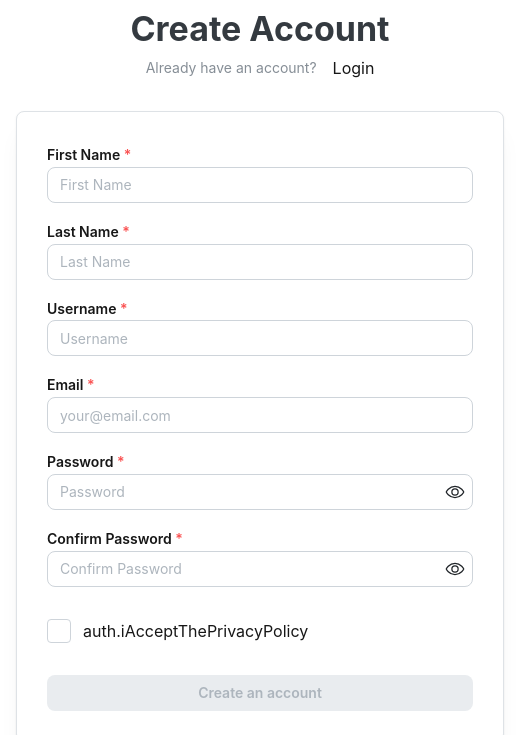
SignUpForm › Form Validation › enables submit button when all fields are valid
This screenshot has width=521, height=735.
Type "John" into the field with test id "sign-up-first-name-input" at [260, 185], box [47, 167, 473, 203]
Type "Doe" into the field with test id "sign-up-last-name-input" at [260, 262], box [47, 244, 473, 280]
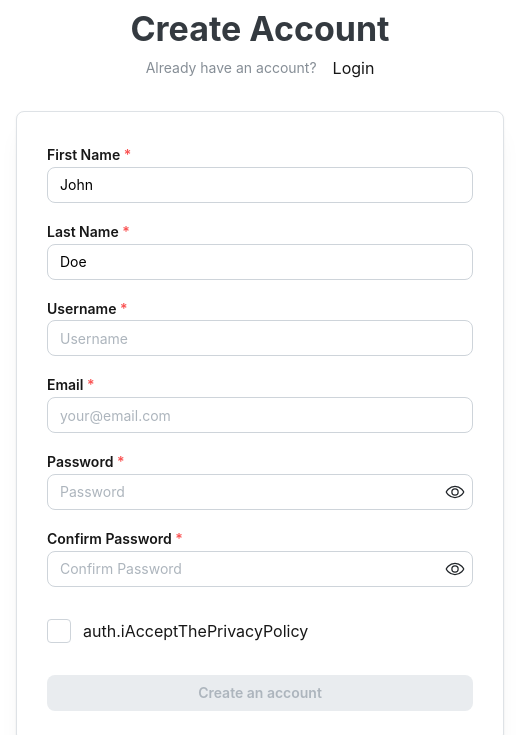
Type "johndoe" into the field with test id "sign-up-user-name-input" at [260, 338], box [47, 320, 473, 356]
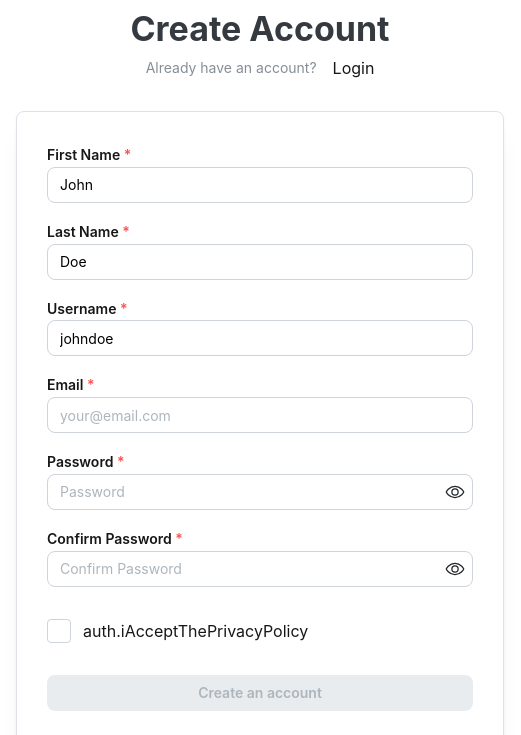
Type "john@example.com" into the field with test id "sign-up-email-input" at [260, 415], box [47, 397, 473, 433]
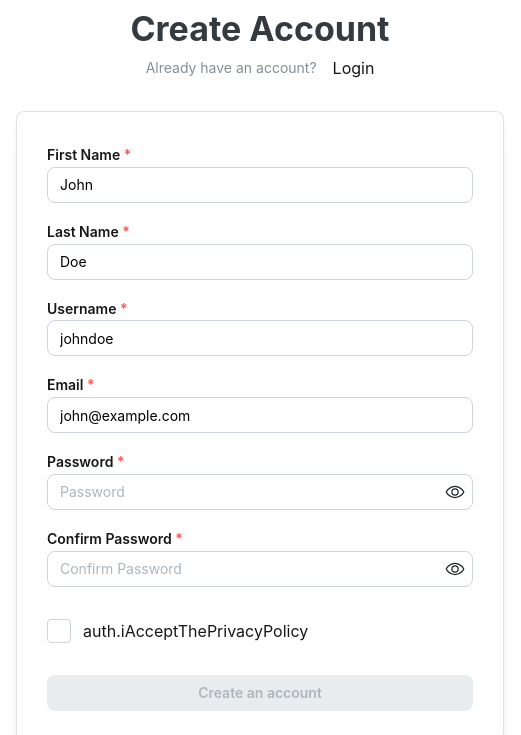
Type "Example123!" into the password field with test id "sign-up-password-input" at [260, 492], box [48, 475, 472, 509]
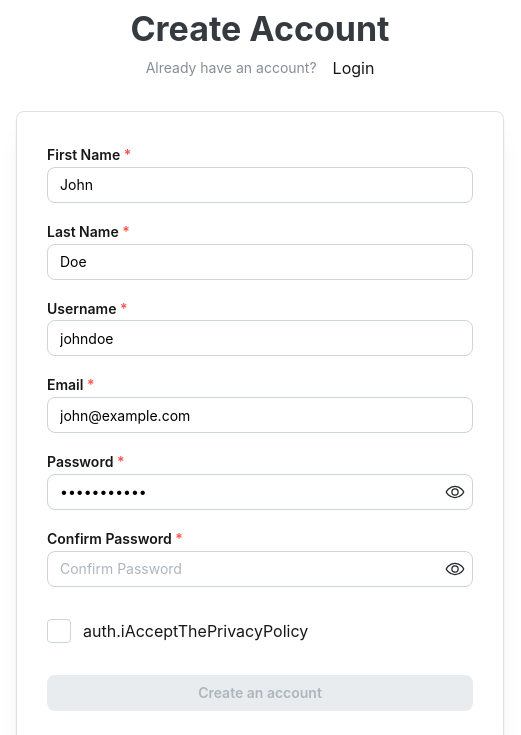
Type "Example123!" into the password field with test id "sign-up-confirm-password-input" at [260, 569], box [48, 552, 472, 586]
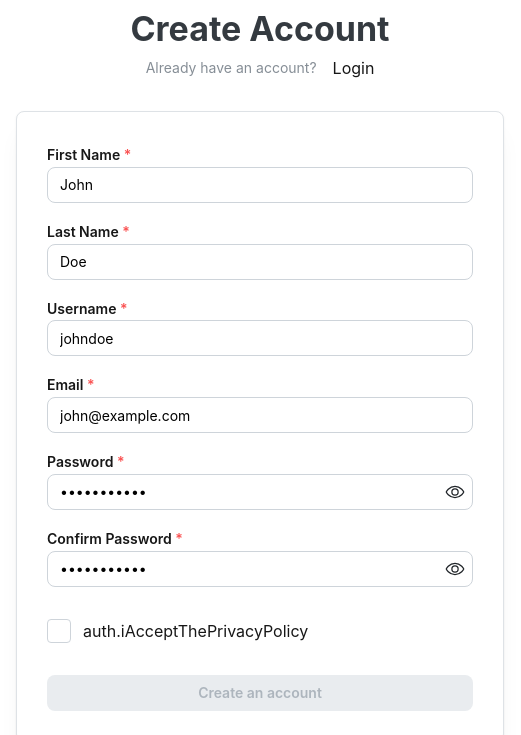
Click the checkbox with test id "sign-up-privacy-checkbox" at [59, 631], box [47, 619, 71, 643]
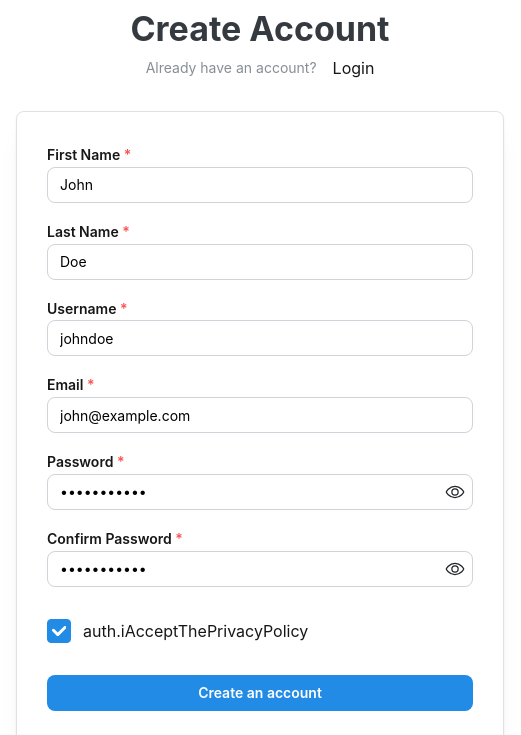
Expected: the button with test id "sign-up-submit-button" is enabled, [47, 675, 473, 711]
